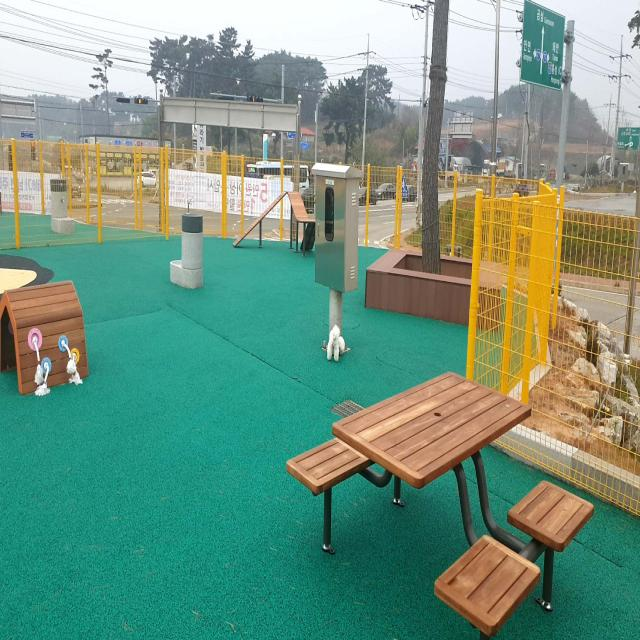Dog: (326, 324, 345, 360)
